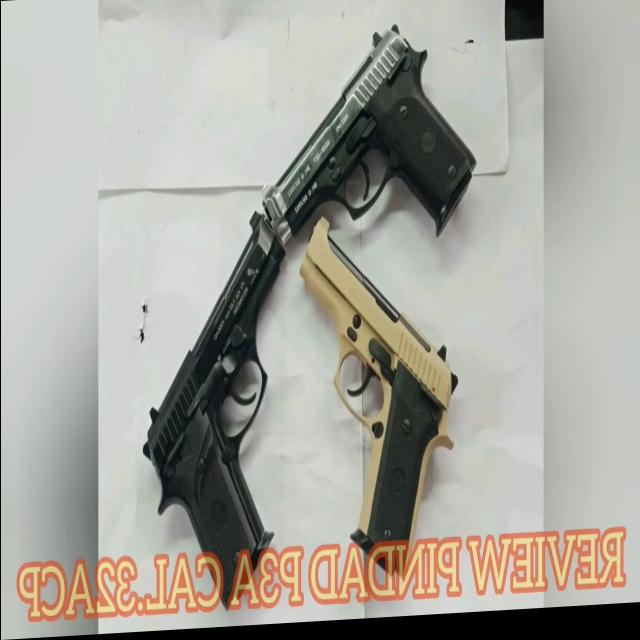handgun: (294, 203, 462, 541), (262, 14, 483, 256), (140, 214, 284, 559)
